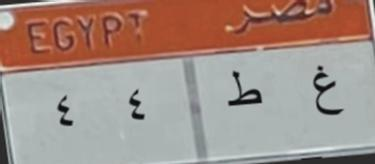4: (52, 90, 78, 136), (123, 86, 152, 124)
Taa: (219, 67, 270, 122)
ghayn: (304, 61, 346, 126)
